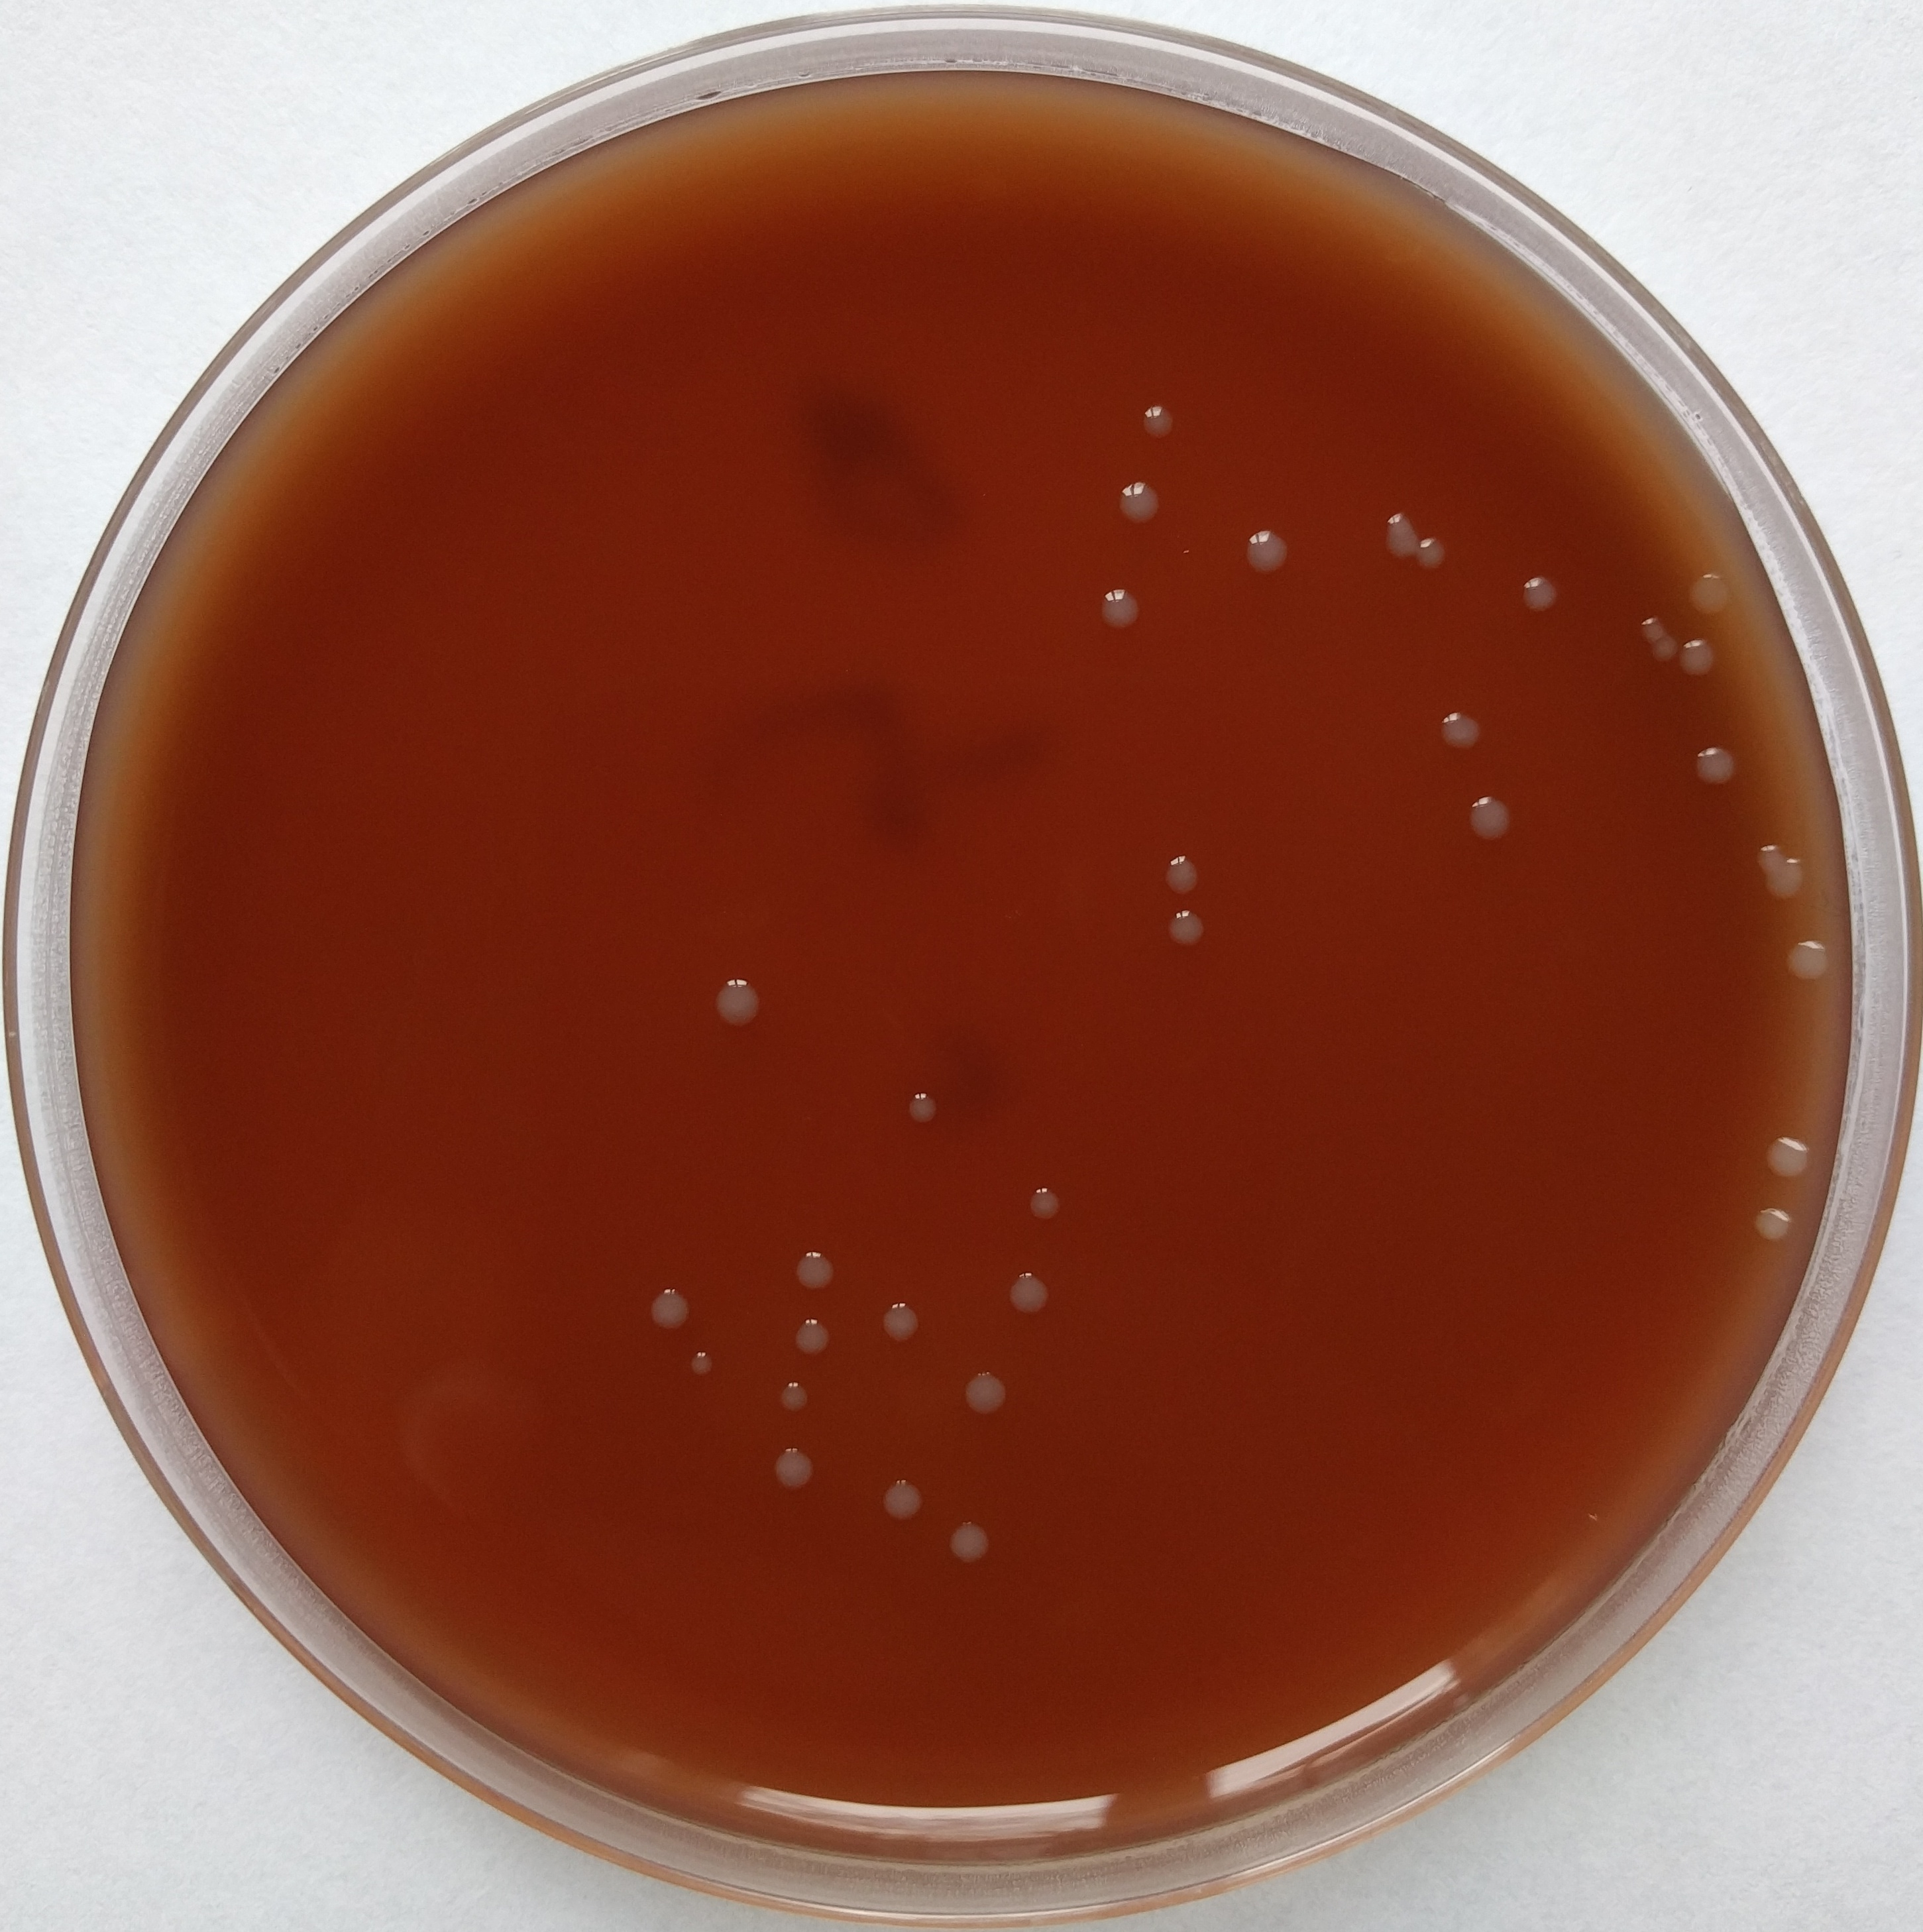sp16: (1738, 828, 1819, 916), (873, 1273, 940, 1370), (1773, 916, 1844, 1000), (988, 1259, 1071, 1326), (1738, 1182, 1810, 1257), (944, 1469, 997, 1571), (787, 1220, 858, 1296), (953, 1356, 1028, 1427), (888, 1064, 958, 1139), (773, 1418, 831, 1506), (1752, 1117, 1814, 1187), (637, 1273, 710, 1331), (865, 1469, 940, 1523), (773, 1300, 840, 1358), (1023, 1150, 1076, 1222), (1148, 837, 1208, 900), (1455, 789, 1513, 854), (706, 974, 768, 1034), (764, 1356, 822, 1418), (1428, 697, 1486, 759), (1691, 727, 1743, 794), (682, 1330, 736, 1393), (1676, 622, 1726, 689), (1097, 585, 1150, 641), (1148, 902, 1212, 948), (1511, 571, 1562, 623), (1692, 558, 1735, 620), (1379, 504, 1425, 558), (1118, 476, 1162, 530), (1245, 528, 1291, 578), (1141, 395, 1178, 446), (1418, 537, 1458, 578), (1631, 613, 1668, 641), (1650, 636, 1676, 669)
